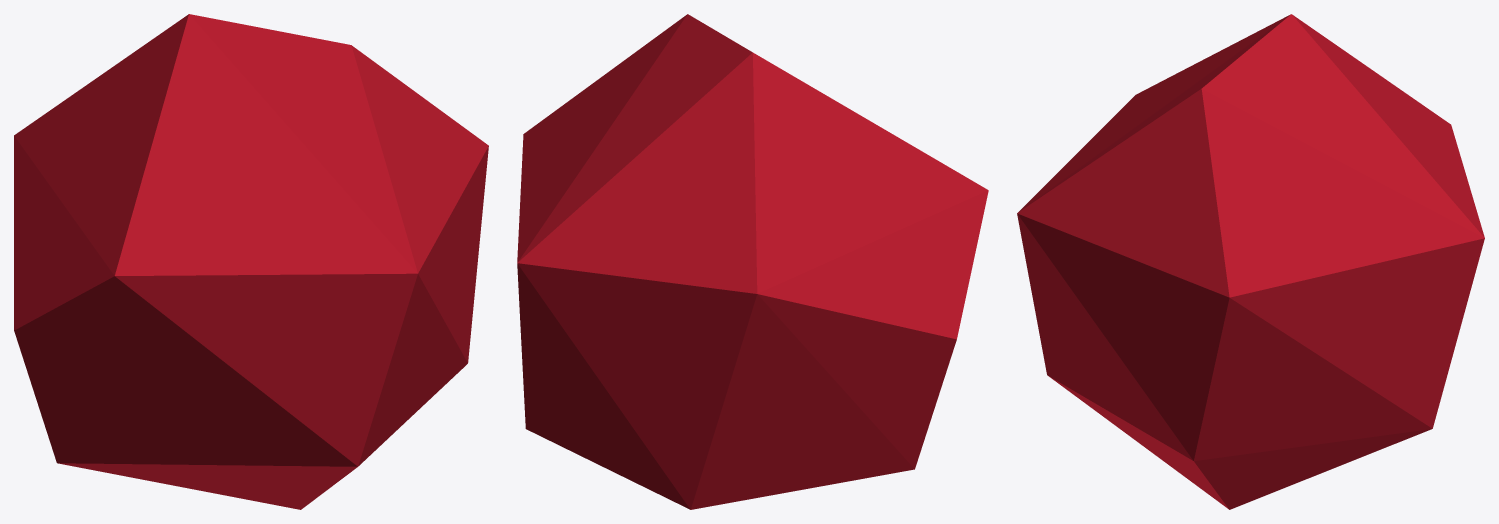
The model's file is tree-dead-leaves-023.glb.
The picture shows the model from 3 angles, left to right: view 1: azimuth 30°, elevation 25°; view 2: azimuth 150°, elevation 25°; view 3: azimuth 270°, elevation 25°; orthographic projection. The views are drawn at different scales.
Parts seen in each view (by area): view 1: Icosphere.019_462; view 2: Icosphere.019_462; view 3: Icosphere.019_462.
Part boxes in pixels (box(x1,y1,x2,y2)): Icosphere.019_462: box(14, 14, 488, 509); Icosphere.019_462: box(517, 14, 988, 509); Icosphere.019_462: box(1017, 14, 1484, 509).
Bounding box in the file's own units: 1.32 × 1.35 × 1.25.
